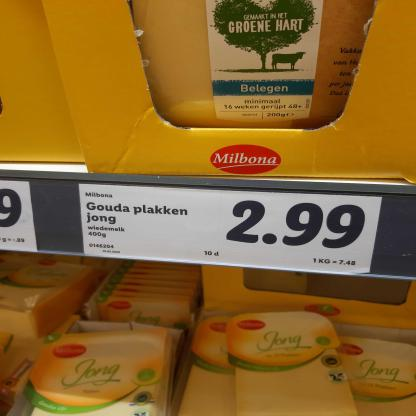prtg: (80, 185, 382, 275), (1, 181, 39, 254)
